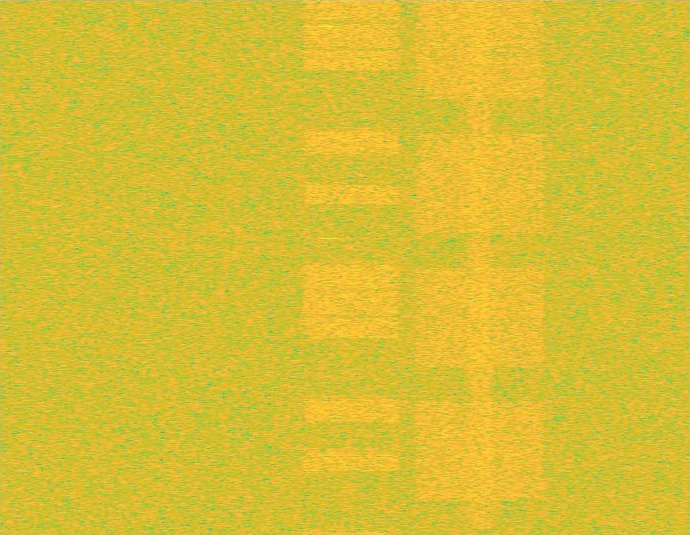5G: (411, 0, 549, 534)
DSSS: (465, 0, 496, 534)
LTE: (300, 0, 403, 534)
Radar: (322, 0, 336, 534)
